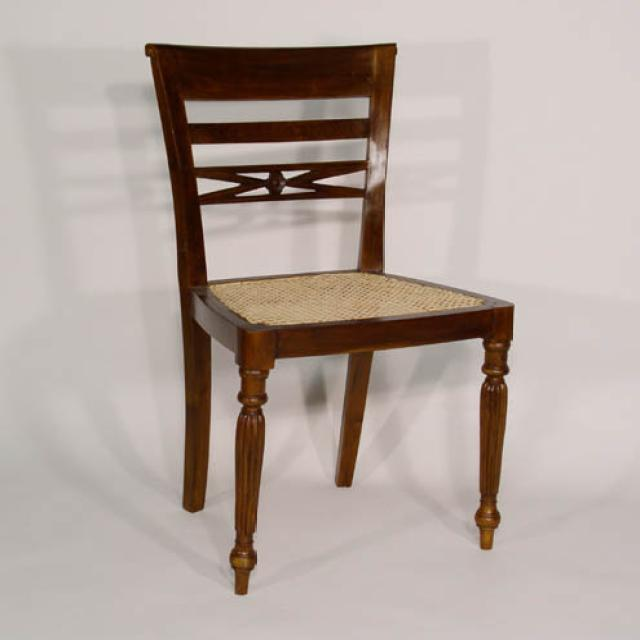chair: (143, 40, 514, 595)
